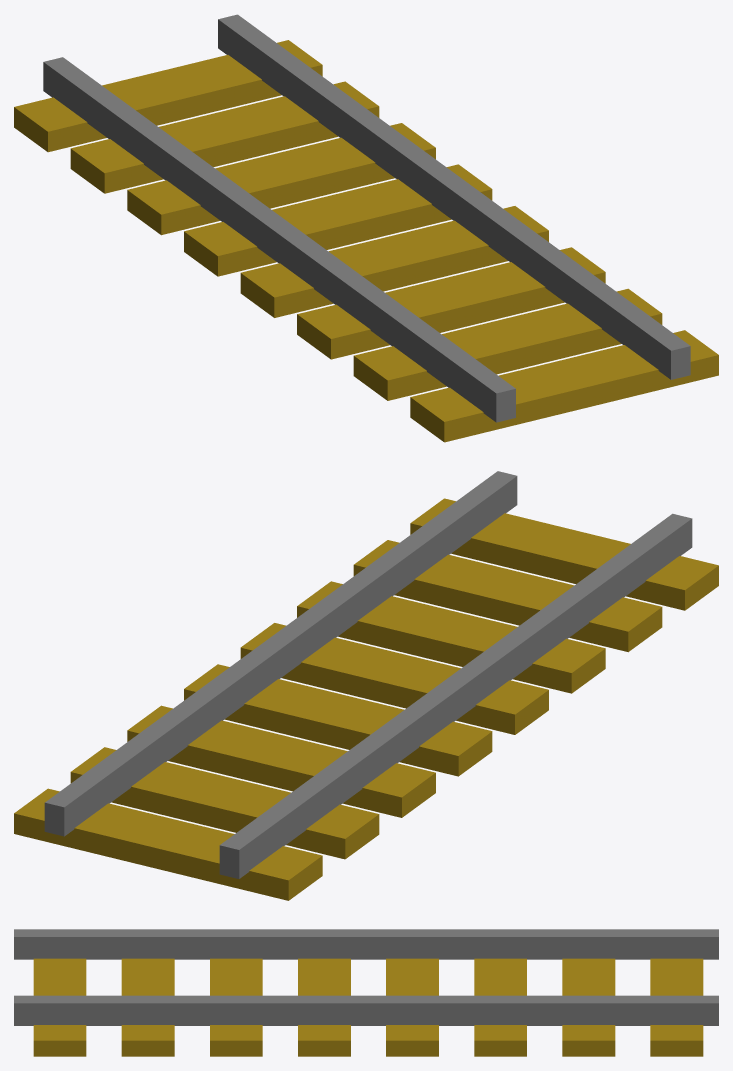
File: DoubleStraight.fbx
The picture shows the model from 3 angles, top to bottom: view 1: azimuth 30°, elevation 25°; view 2: azimuth 150°, elevation 25°; view 3: azimuth 270°, elevation 25°; orthographic projection. The views are drawn at different scales.
Parts seen in each view (by area): view 1: Track Left, Track Left.001, Cube.007, Cube.006, Cube.003, Cube.005, Cube.000, Cube.002, Cube.004, Cube.001; view 2: Track Left, Track Left.001, Cube.004, Cube.003, Cube.006, Cube.001, Cube.005, Cube.002, Cube.007, Cube.000; view 3: Track Left.001, Track Left, Cube.004, Cube.003, Cube.006, Cube.007, Cube.001, Cube.002, Cube.005, Cube.000.
Part boxes in pixels (bbox=[...]): Track Left: bbox=[43, 57, 515, 422]; Track Left.001: bbox=[218, 14, 690, 379]; Cube.007: bbox=[410, 330, 718, 442]; Cube.006: bbox=[353, 288, 662, 400]; Cube.003: bbox=[70, 81, 379, 193]; Cube.005: bbox=[297, 247, 605, 359]; Cube.000: bbox=[240, 206, 548, 317]; Cube.002: bbox=[127, 123, 435, 235]; Cube.004: bbox=[14, 40, 322, 152]; Cube.001: bbox=[184, 164, 492, 276]; Track Left: bbox=[219, 513, 692, 878]; Track Left.001: bbox=[44, 471, 517, 836]; Cube.004: bbox=[14, 788, 322, 900]; Cube.003: bbox=[70, 747, 379, 859]; Cube.006: bbox=[353, 540, 662, 652]; Cube.001: bbox=[184, 664, 492, 776]; Cube.005: bbox=[297, 581, 605, 693]; Cube.002: bbox=[127, 705, 435, 817]; Cube.007: bbox=[410, 498, 718, 610]; Cube.000: bbox=[240, 623, 548, 734]; Track Left.001: bbox=[14, 995, 718, 1025]; Track Left: bbox=[14, 929, 718, 959]; Cube.004: bbox=[650, 958, 703, 1056]; Cube.003: bbox=[562, 958, 615, 1056]; Cube.006: bbox=[121, 958, 174, 1056]; Cube.007: bbox=[33, 958, 86, 1056]; Cube.001: bbox=[386, 958, 438, 1056]; Cube.002: bbox=[474, 958, 526, 1056]; Cube.005: bbox=[210, 958, 262, 1056]; Cube.000: bbox=[298, 958, 350, 1056].
Size of the model in its own units: 350 by 59.22 by 1000.
